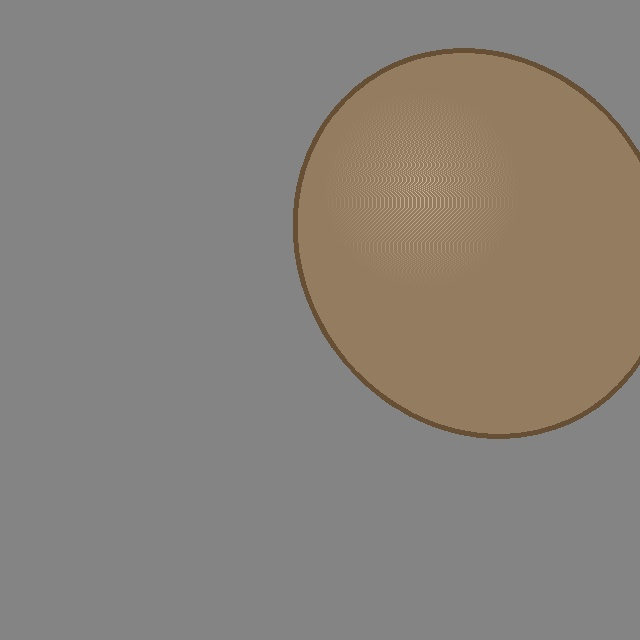lens: (296, 50, 640, 436)
